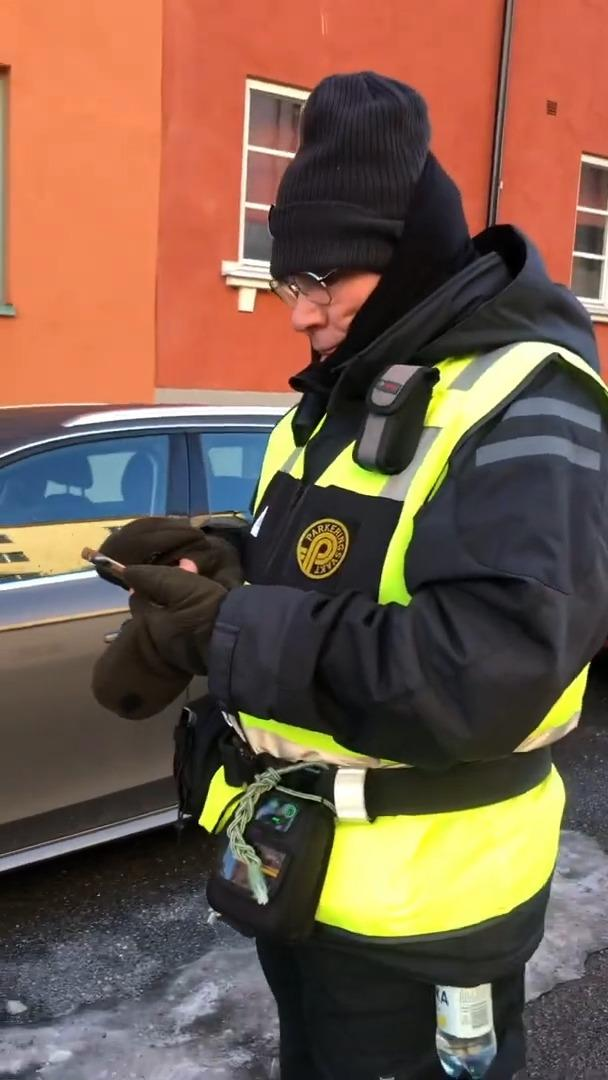parking-attendant: (125, 72, 607, 1079)
